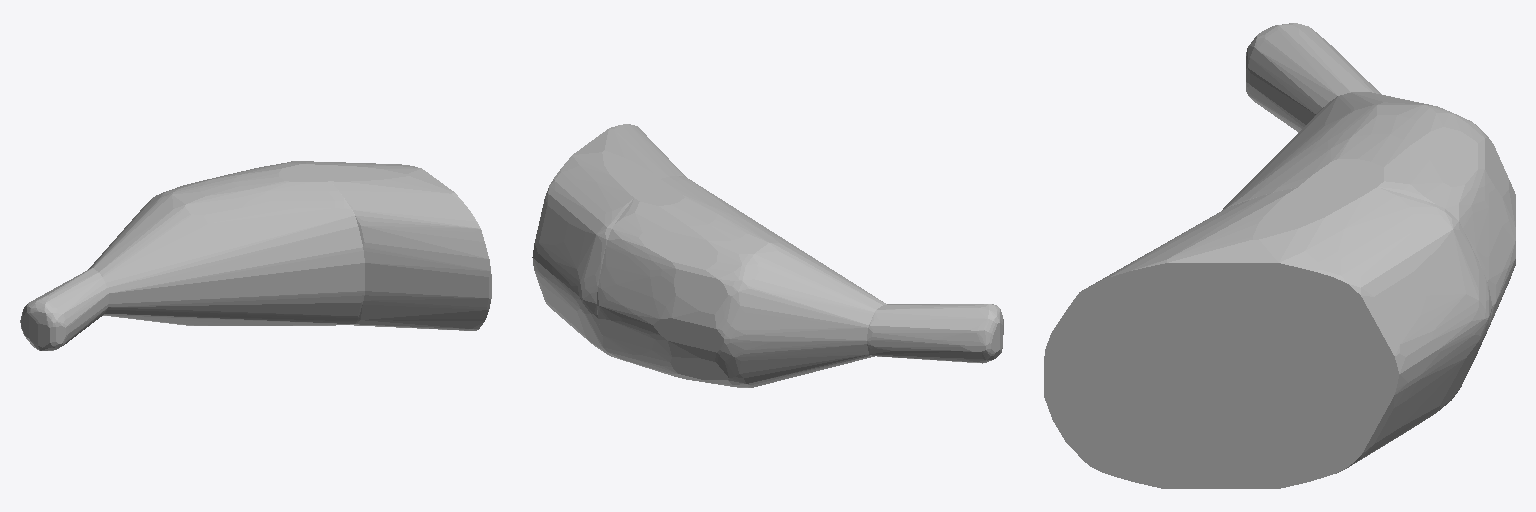
robot.urdf — root:
<robot name="root">
  <link name="link_coacd_convex_piece_0">
    <inertial>
      <origin xyz="0 0 0" rpy="0 0 0"/>
      <inertia ixx="3.07E-03" ixy="6.09E-03" ixz="-3.33E-06" iyy="1.27E-02" iyz="1.09E-06" izz="1.50E-02"/>
    </inertial>
    <visual>
      <origin xyz="0 0 0" rpy="0 0 0"/>
      <geometry>
        <mesh filename="coacd_convex_piece_0.obj" scale="1.0000E+00 1.0000E+00 1.0000E+00"/>
      </geometry>
      <material name="">
        <color rgba="7.50E-01 7.50E-01 7.50E-01 1"/>
      </material>
    </visual>
    <collision>
      <origin xyz="0 0 0" rpy="0 0 0"/>
      <geometry>
        <mesh filename="coacd_convex_piece_0.obj" scale="1.0000E+00 1.0000E+00 1.0000E+00"/>
      </geometry>
    </collision>
  </link>
  <link name="link_coacd_convex_piece_1">
    <inertial>
      <origin xyz="0 0 0" rpy="0 0 0"/>
      <inertia ixx="2.60E-03" ixy="5.22E-05" ixz="-1.42E-07" iyy="-5.74E-04" iyz="-2.25E-06" izz="1.72E-03"/>
    </inertial>
    <visual>
      <origin xyz="0 0 0" rpy="0 0 0"/>
      <geometry>
        <mesh filename="coacd_convex_piece_1.obj" scale="1.0000E+00 1.0000E+00 1.0000E+00"/>
      </geometry>
      <material name="">
        <color rgba="7.50E-01 7.50E-01 7.50E-01 1"/>
      </material>
    </visual>
    <collision>
      <origin xyz="0 0 0" rpy="0 0 0"/>
      <geometry>
        <mesh filename="coacd_convex_piece_1.obj" scale="1.0000E+00 1.0000E+00 1.0000E+00"/>
      </geometry>
    </collision>
  </link>
  <joint name="link_coacd_convex_piece_1_joint" type="fixed">
    <origin xyz="0 0 0" rpy="0 0 0"/>
    <parent link="link_coacd_convex_piece_0"/>
    <child link="link_coacd_convex_piece_1"/>
  </joint>
  <link name="link_coacd_convex_piece_2">
    <inertial>
      <origin xyz="0 0 0" rpy="0 0 0"/>
      <inertia ixx="6.53E-03" ixy="4.14E-03" ixz="1.21E-06" iyy="4.93E-04" iyz="-3.24E-07" izz="6.66E-03"/>
    </inertial>
    <visual>
      <origin xyz="0 0 0" rpy="0 0 0"/>
      <geometry>
        <mesh filename="coacd_convex_piece_2.obj" scale="1.0000E+00 1.0000E+00 1.0000E+00"/>
      </geometry>
      <material name="">
        <color rgba="7.50E-01 7.50E-01 7.50E-01 1"/>
      </material>
    </visual>
    <collision>
      <origin xyz="0 0 0" rpy="0 0 0"/>
      <geometry>
        <mesh filename="coacd_convex_piece_2.obj" scale="1.0000E+00 1.0000E+00 1.0000E+00"/>
      </geometry>
    </collision>
  </link>
  <joint name="link_coacd_convex_piece_2_joint" type="fixed">
    <origin xyz="0 0 0" rpy="0 0 0"/>
    <parent link="link_coacd_convex_piece_1"/>
    <child link="link_coacd_convex_piece_2"/>
  </joint>
  <link name="link_coacd_convex_piece_3">
    <inertial>
      <origin xyz="0 0 0" rpy="0 0 0"/>
      <inertia ixx="2.57E-04" ixy="5.37E-04" ixz="1.98E-07" iyy="6.80E-04" iyz="-4.92E-08" izz="9.34E-04"/>
    </inertial>
    <visual>
      <origin xyz="0 0 0" rpy="0 0 0"/>
      <geometry>
        <mesh filename="coacd_convex_piece_3.obj" scale="1.0000E+00 1.0000E+00 1.0000E+00"/>
      </geometry>
      <material name="">
        <color rgba="7.50E-01 7.50E-01 7.50E-01 1"/>
      </material>
    </visual>
    <collision>
      <origin xyz="0 0 0" rpy="0 0 0"/>
      <geometry>
        <mesh filename="coacd_convex_piece_3.obj" scale="1.0000E+00 1.0000E+00 1.0000E+00"/>
      </geometry>
    </collision>
  </link>
  <joint name="link_coacd_convex_piece_3_joint" type="fixed">
    <origin xyz="0 0 0" rpy="0 0 0"/>
    <parent link="link_coacd_convex_piece_2"/>
    <child link="link_coacd_convex_piece_3"/>
  </joint>
</robot>

--- Render facts (derived) ---
Views: 3 orthographic renders of the robot side by side, from view 1: azimuth 30°, elevation 25°; view 2: azimuth 150°, elevation 25°; view 3: azimuth 270°, elevation 25°.
Robot: root — 4 links, 3 joints (3 fixed); root link link_coacd_convex_piece_0; default pose: every joint at zero.
Links seen in each view (by area): view 1: link_coacd_convex_piece_2, link_coacd_convex_piece_1, link_coacd_convex_piece_3; view 2: link_coacd_convex_piece_2, link_coacd_convex_piece_1, link_coacd_convex_piece_3; view 3: link_coacd_convex_piece_1, link_coacd_convex_piece_2, link_coacd_convex_piece_3.
Boxes of the visible links, bbox=[...] form: link_coacd_convex_piece_2: bbox=[88, 162, 364, 325]; link_coacd_convex_piece_1: bbox=[291, 161, 491, 330]; link_coacd_convex_piece_3: bbox=[20, 268, 108, 350]; link_coacd_convex_piece_2: bbox=[597, 176, 886, 387]; link_coacd_convex_piece_1: bbox=[532, 124, 685, 356]; link_coacd_convex_piece_3: bbox=[867, 304, 1003, 363]; link_coacd_convex_piece_1: bbox=[1044, 187, 1491, 488]; link_coacd_convex_piece_2: bbox=[1222, 92, 1515, 353]; link_coacd_convex_piece_3: bbox=[1246, 23, 1381, 132].
Bounding box of the posed robot: 0.959 × 0.5959 × 0.3327 m (x, y, z).
3 mesh visuals loaded from 4 distinct referenced files (3 OBJ); not drawn: 1 (reference not matched to a file when rendering).